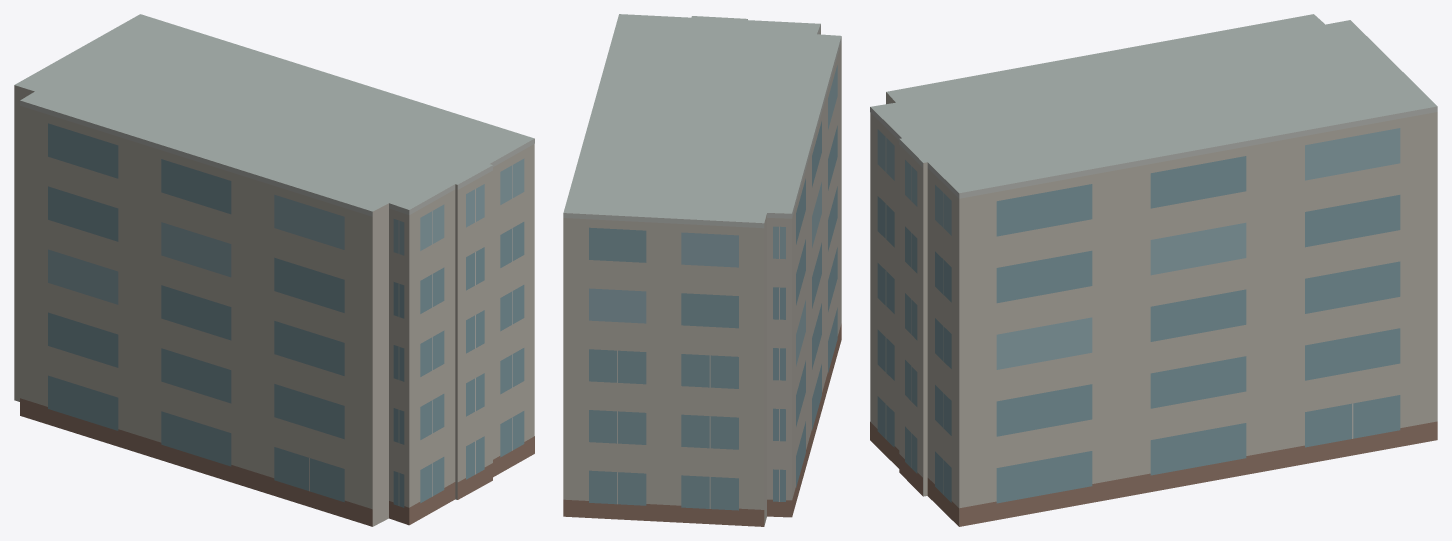
The model's file is survey-upis-32991589.glb.
3 renders of one model, left to right at view 1: azimuth 30°, elevation 25°; view 2: azimuth 150°, elevation 25°; view 3: azimuth 270°, elevation 25°, orthographic. The views are drawn at different scales.
Parts seen in each view (by area): view 1: survey-upis-32991589.tmp; view 2: survey-upis-32991589.tmp; view 3: survey-upis-32991589.tmp.
Boxes of the visible parts, x1,y1,x2,y2 form: survey-upis-32991589.tmp: (14, 14, 534, 526); survey-upis-32991589.tmp: (563, 14, 841, 526); survey-upis-32991589.tmp: (870, 14, 1437, 526).
Bounding box in the file's own units: 17.01 × 14.75 × 22.75.
